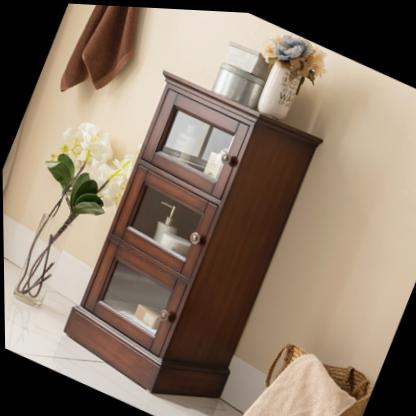Cupboard: (63, 71, 321, 397)
